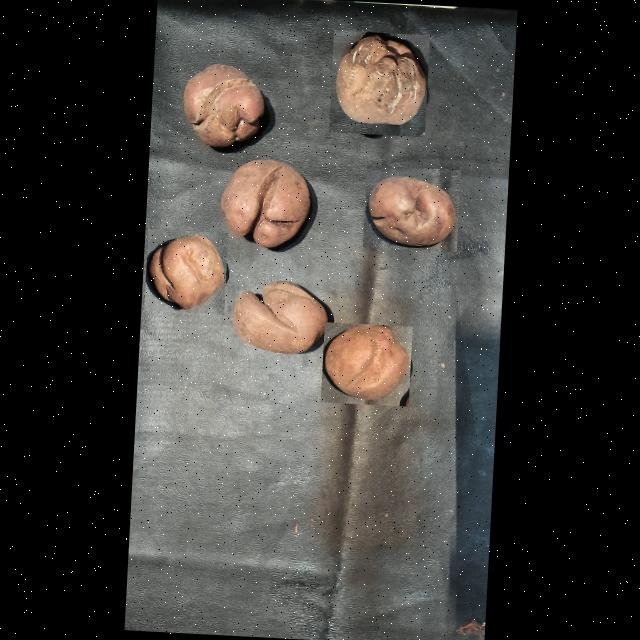Damaged potato: (328, 30, 429, 137), (228, 274, 330, 360), (175, 58, 268, 151)
Diseased-fungal potato: (216, 155, 314, 253), (362, 165, 460, 252), (319, 322, 412, 407), (144, 229, 228, 315)
